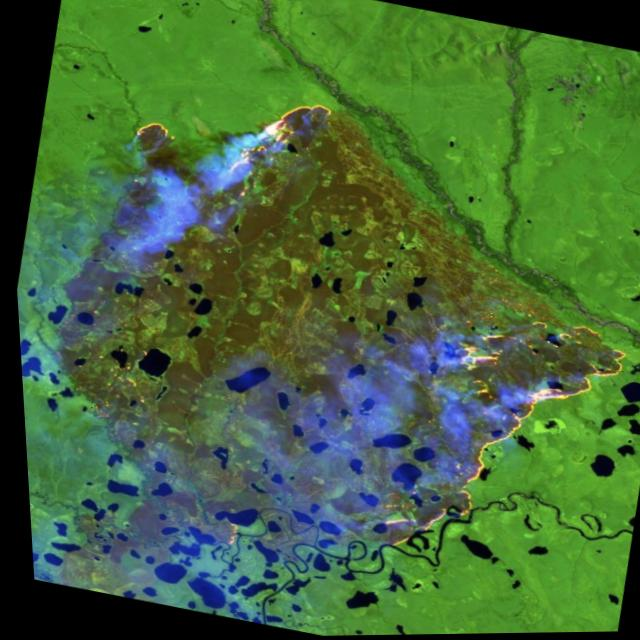fire: (357, 286, 640, 595), (112, 63, 356, 221)
